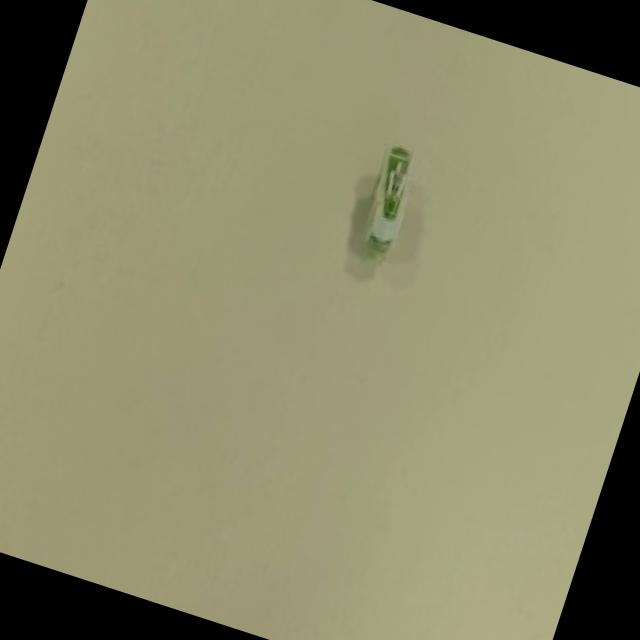4_NanoBug_Blanco: (268, 85, 494, 322)
